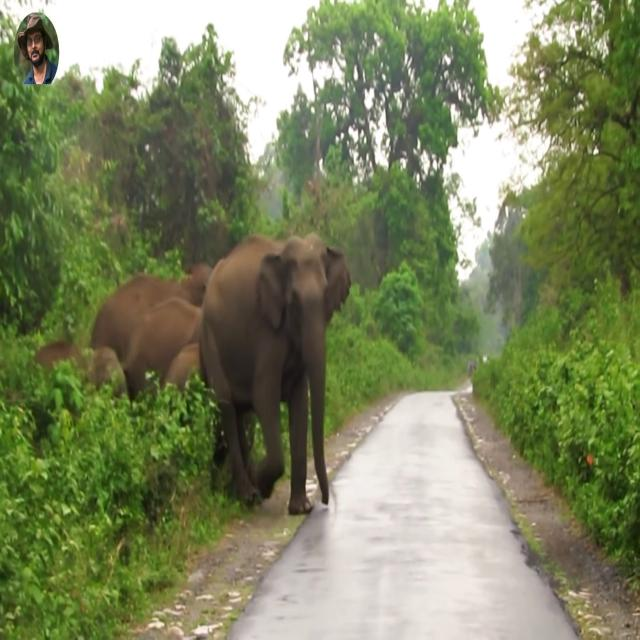Elephant: (198, 231, 352, 515), (89, 261, 213, 402), (32, 340, 129, 404)
